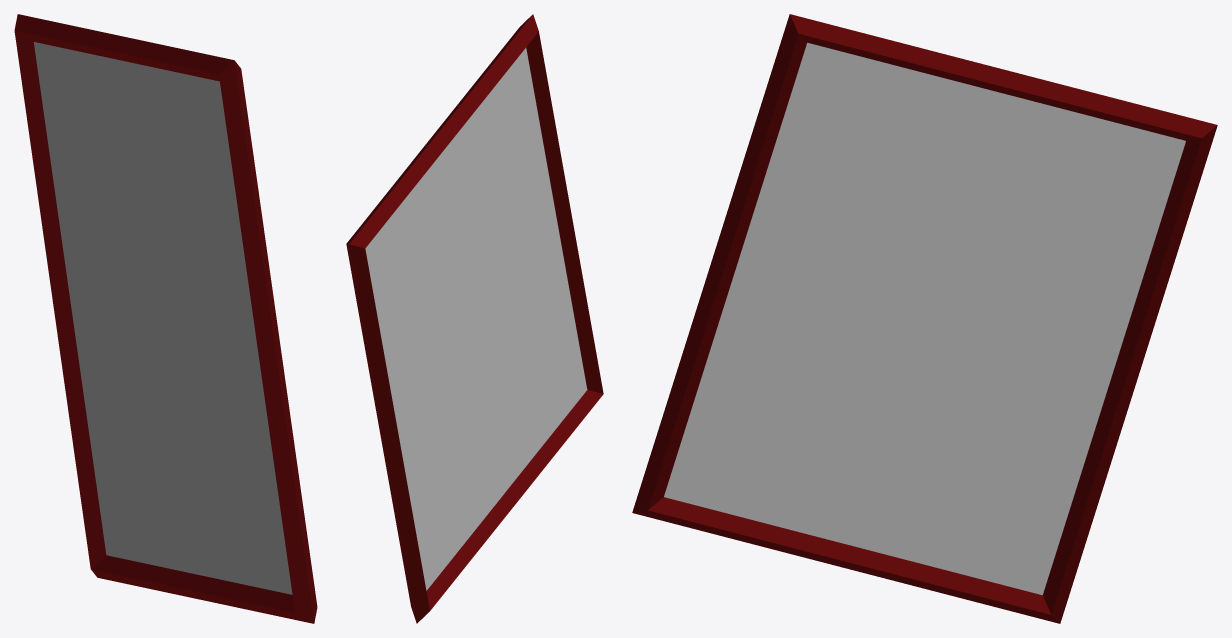
Rendered from Picture1fbx.fbx.
3 views of the same model, side by side, from view 1: azimuth 30°, elevation 25°; view 2: azimuth 150°, elevation 25°; view 3: azimuth 270°, elevation 25° (orthographic). The views are drawn at different scales.
Visible parts, largest first — view 1: Plane.037, Plane.036; view 2: Plane.037, Plane.036; view 3: Plane.037, Plane.036.
Part boxes in pixels (x1,y1,x2,y2): Plane.037: [33, 42, 292, 594]; Plane.036: [14, 14, 317, 623]; Plane.037: [365, 47, 587, 590]; Plane.036: [346, 14, 603, 623]; Plane.037: [664, 42, 1185, 595]; Plane.036: [632, 14, 1217, 623].
Bounding box in the file's own units: 2.23 × 58.62 × 51.01.
